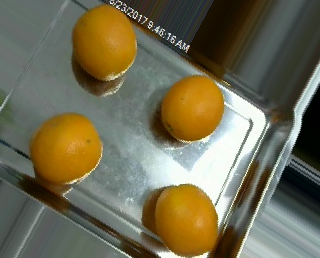Orange: (30, 112, 102, 185), (71, 4, 136, 81), (155, 183, 220, 258), (160, 75, 223, 142)
